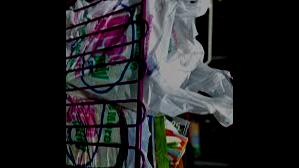Plastic: (66, 0, 234, 129)
